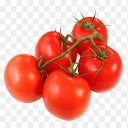tomato: (42, 68, 91, 121), (78, 46, 125, 93), (3, 56, 45, 100), (36, 31, 78, 71), (73, 14, 109, 53)
